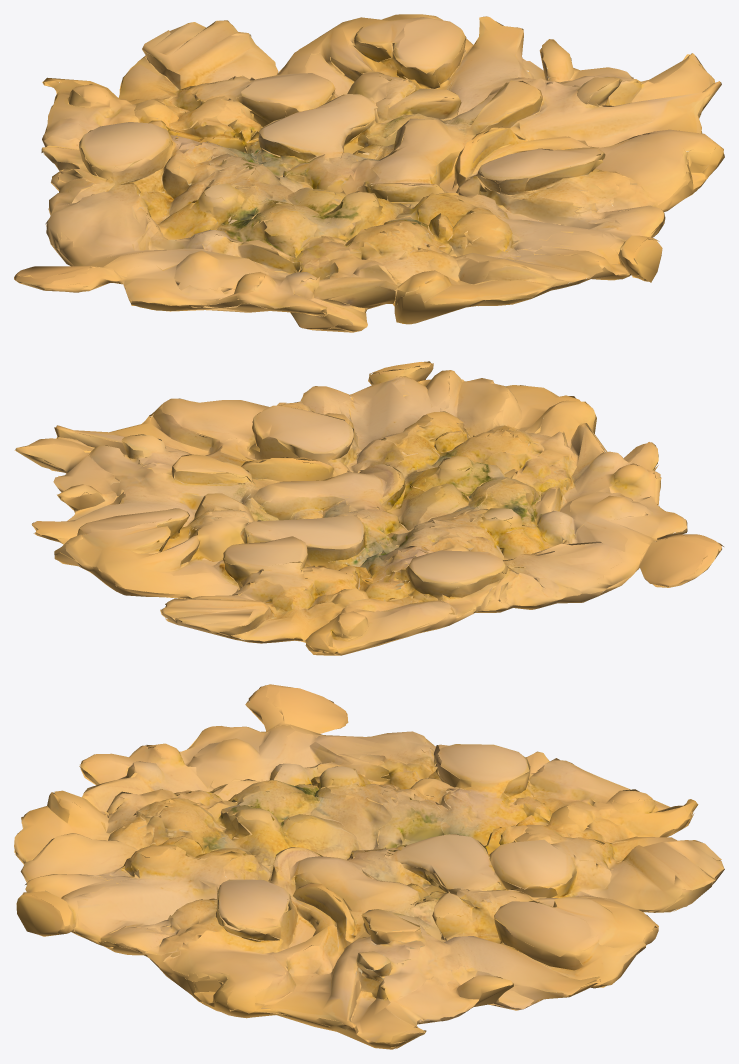
3 views of the same model, one above another, from view 1: azimuth 30°, elevation 25°; view 2: azimuth 150°, elevation 25°; view 3: azimuth 270°, elevation 25° (orthographic). The views are drawn at different scales.
Parts seen in each view (by area): view 1: material.001; view 2: material.001; view 3: material.001.
Part boxes in pixels (box(x1,y1,x2,y2)): material.001: box(14, 14, 724, 332); material.001: box(14, 361, 723, 655); material.001: box(14, 684, 724, 1049).
Bounding box in the file's own units: 117 × 10.29 × 102.
Materials: 1 (1 with a texture image).
